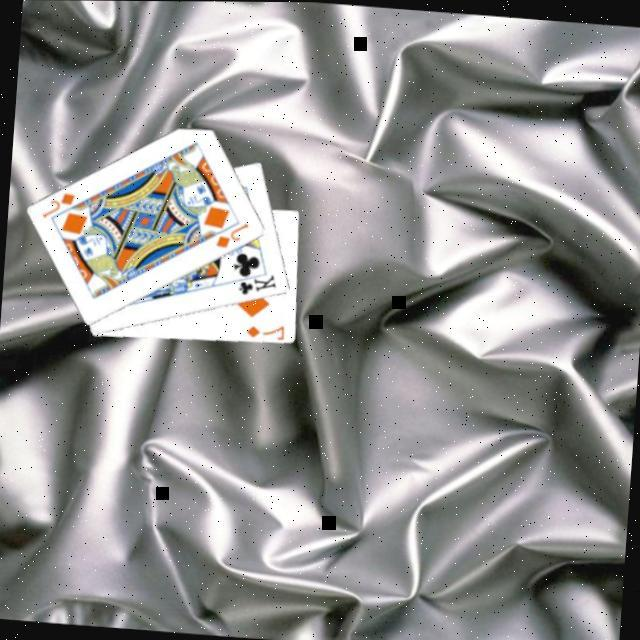7D: (244, 317, 289, 339)
JD: (39, 185, 79, 220), (214, 215, 253, 250)
KC: (229, 264, 281, 297)
